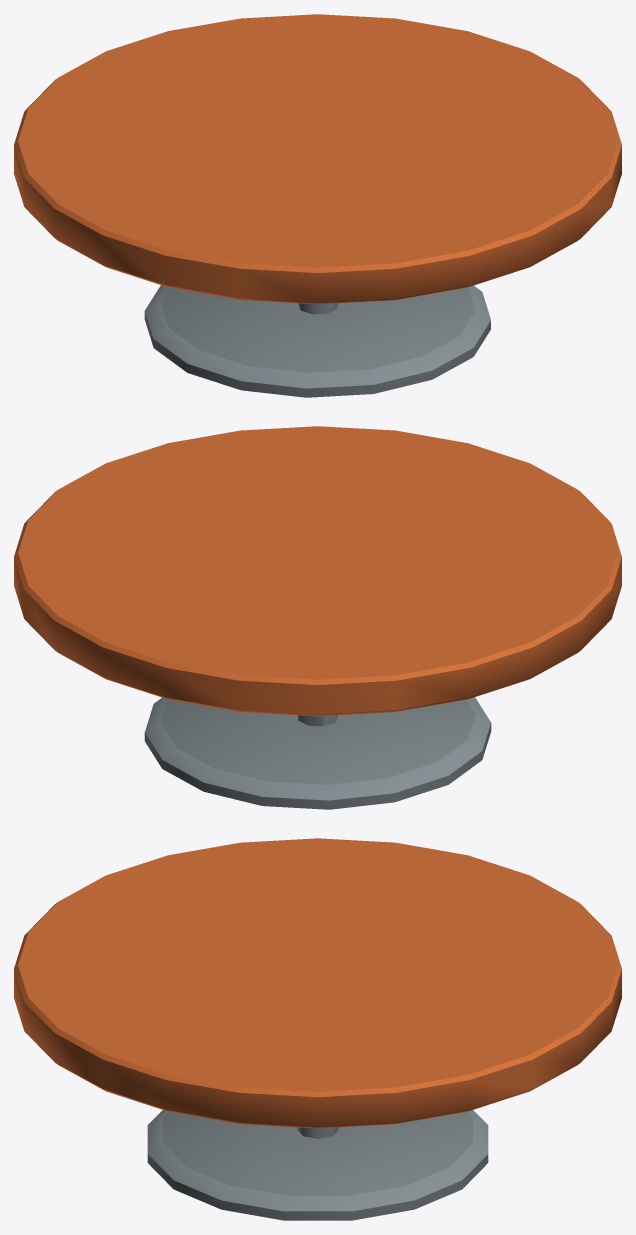
Rendered from cafe-table.glb.
The picture shows the model from 3 angles, top to bottom: view 1: azimuth 30°, elevation 25°; view 2: azimuth 150°, elevation 25°; view 3: azimuth 270°, elevation 25°; orthographic projection.
Visible parts, largest first — view 1: table_round_A; view 2: table_round_A; view 3: table_round_A.
Part boxes in pixels (bbox=[...]): table_round_A: bbox=[14, 14, 621, 397]; table_round_A: bbox=[14, 426, 621, 809]; table_round_A: bbox=[14, 838, 621, 1220].
Bounding box in the file's own units: 98301 × 32763 × 98301.
Materials: 1 (1 with a texture image).
